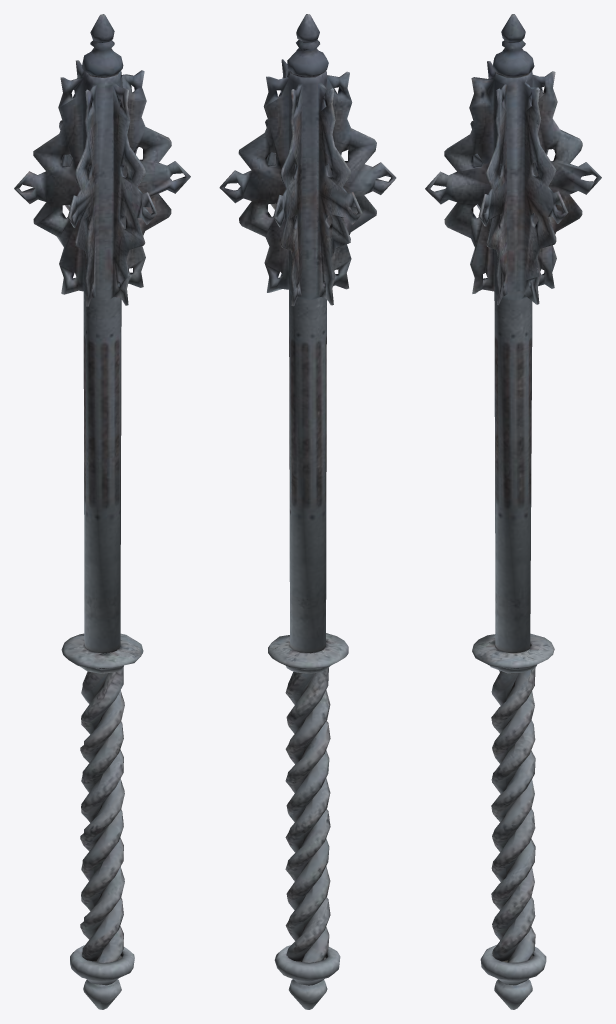
The model's file is ornate_medieval_mace.glb.
3 renders of one model, left to right at view 1: azimuth 30°, elevation 25°; view 2: azimuth 150°, elevation 25°; view 3: azimuth 270°, elevation 25°, orthographic.
Visible parts, largest first — view 1: ornate_medieval_mace; view 2: ornate_medieval_mace; view 3: ornate_medieval_mace.
Part boxes in pixels (<box>): ornate_medieval_mace: <box>14,14,190,1009</box>; ornate_medieval_mace: <box>219,14,396,1009</box>; ornate_medieval_mace: <box>425,14,601,1009</box>.
Bounding box in the file's own units: 0.0949 × 0.6299 × 0.1015.
1 material, 1 textured.
